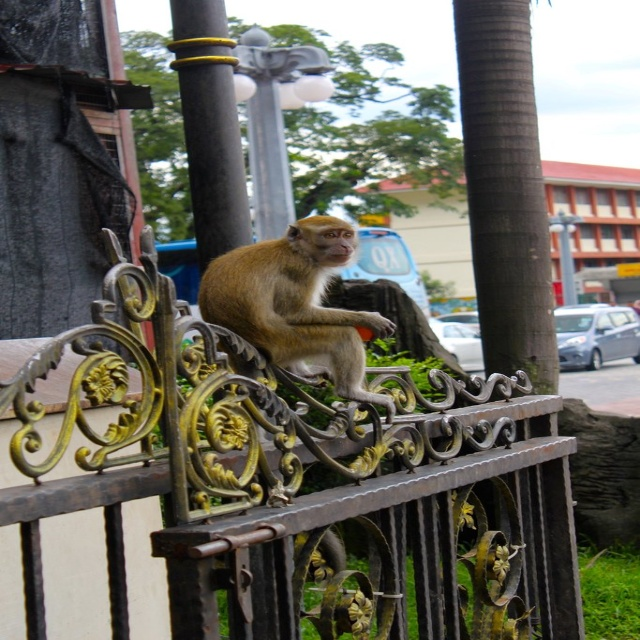Monkey: (193, 212, 395, 417)
